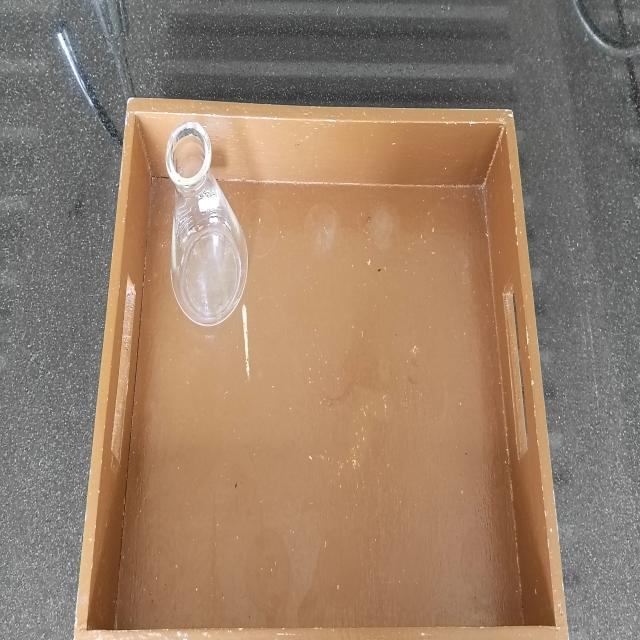erlenmeyer_flask: (147, 118, 258, 336)
